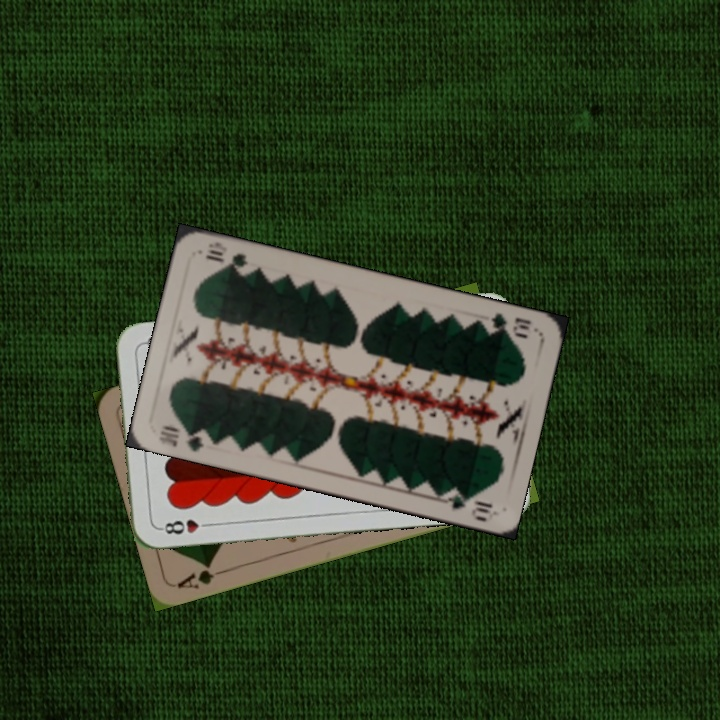G10: (155, 421, 214, 454), (487, 309, 533, 341)
GA: (173, 559, 231, 591)
H8: (156, 515, 215, 538)
